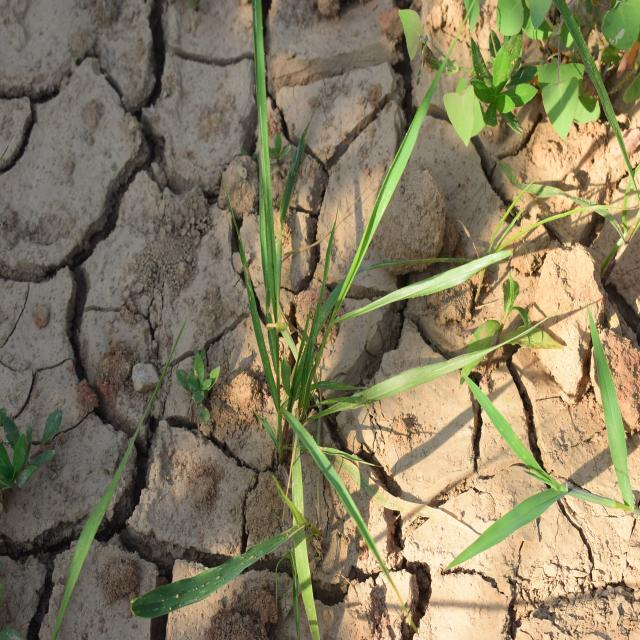green_foxtail: (217, 70, 482, 530)
